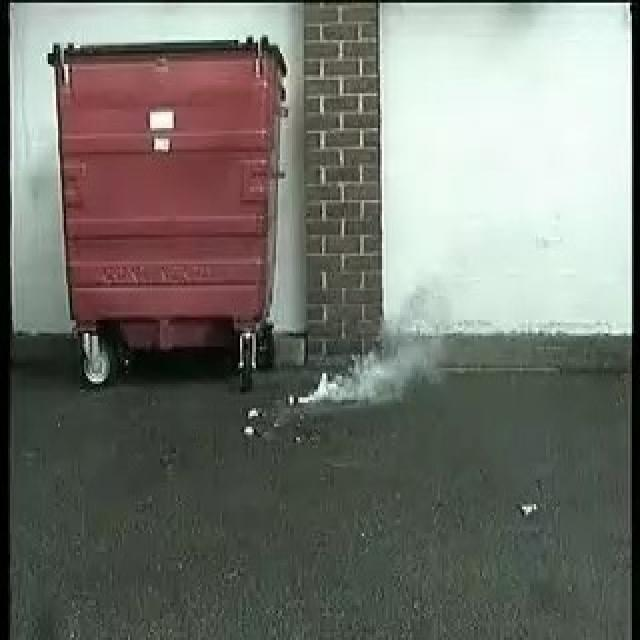smoke: (303, 296, 437, 407)
